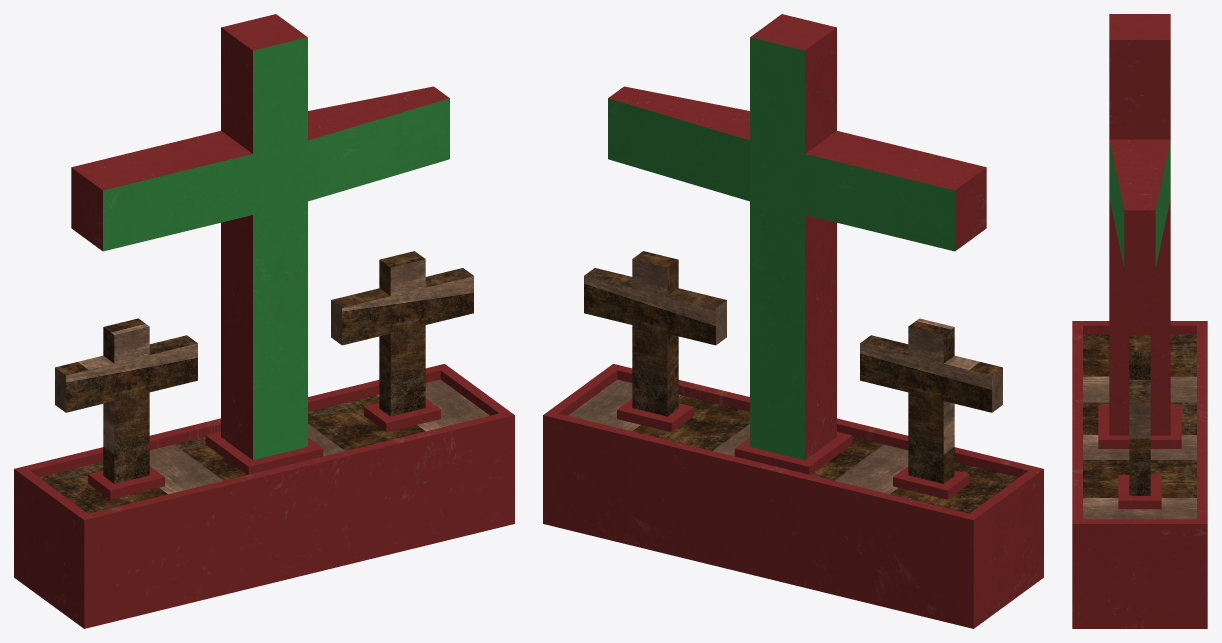
Rendered from Cross.fbx.
3 renders of one model, left to right at view 1: azimuth 30°, elevation 25°; view 2: azimuth 150°, elevation 25°; view 3: azimuth 270°, elevation 25°, orthographic. The views are drawn at different scales.
Visible parts, largest first — view 1: Cross; view 2: Cross; view 3: Cross.
Part boxes in pixels (x1,y1,x2,y2): Cross: (14,14,514,628); Cross: (543,14,1043,628); Cross: (1072,14,1207,628).
Size of the model in its own units: 115 by 132 by 32.39.
